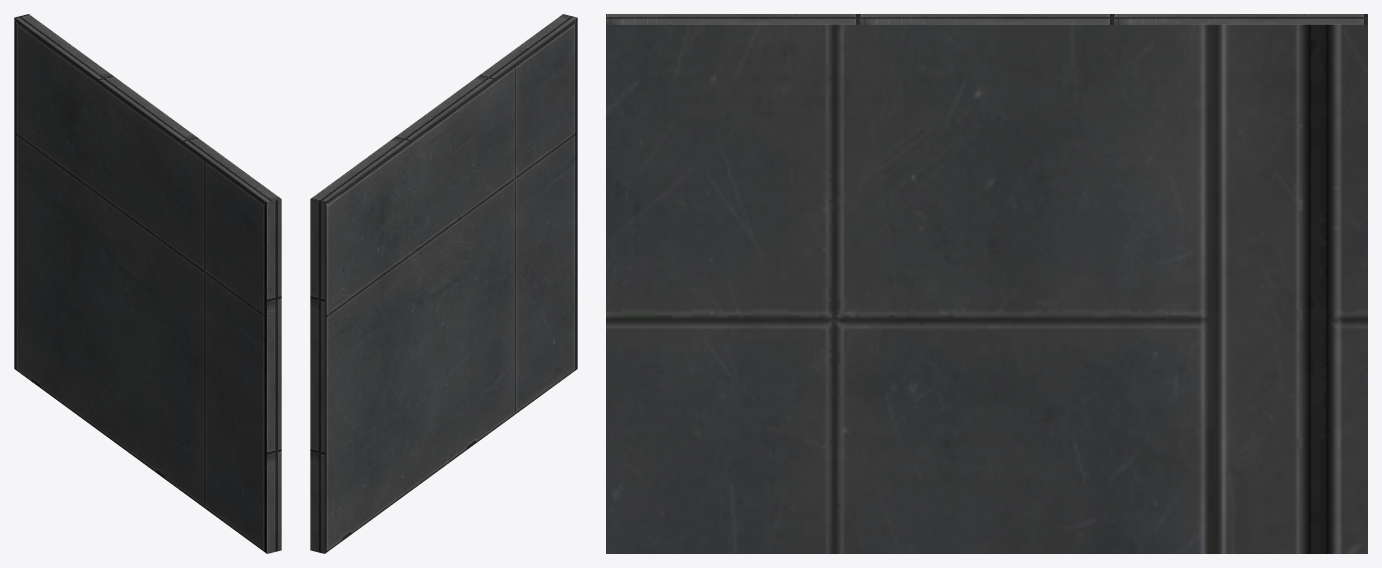
Rendered from Neon_TubeWallD1.FBX.
The picture shows the model from 3 angles, left to right: view 1: azimuth 30°, elevation 25°; view 2: azimuth 150°, elevation 25°; view 3: azimuth 270°, elevation 25°; orthographic projection. The views are drawn at different scales.
Visible parts, largest first — view 1: Neon_TubeWallD1; view 2: Neon_TubeWallD1; view 3: Neon_TubeWallD1.
Part boxes in pixels (box(x1,y1,x2,y2)): Neon_TubeWallD1: box(14, 14, 281, 553); Neon_TubeWallD1: box(310, 14, 577, 553); Neon_TubeWallD1: box(606, 14, 1367, 553).
Bounding box in the file's own units: 1 × 23 × 30.
